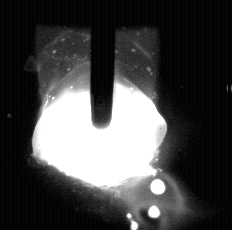arame: (91, 0, 114, 128)
poca: (32, 0, 164, 230)
